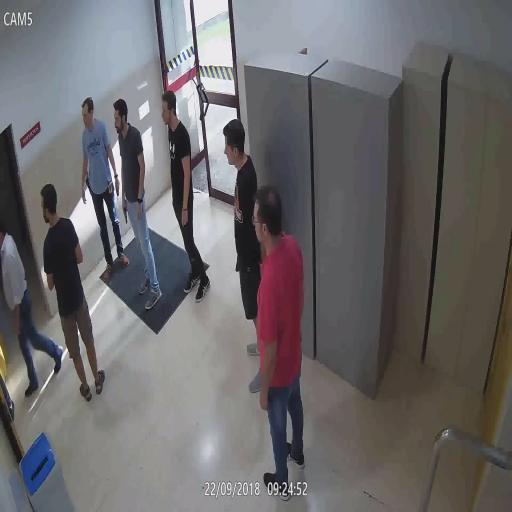Handgun: (120, 194, 130, 226), (83, 167, 91, 196), (234, 248, 239, 272)
